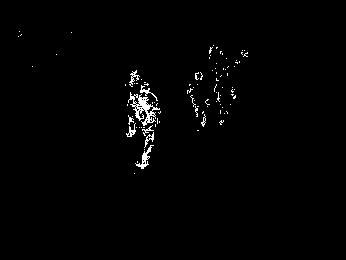person: (126, 80, 161, 172), (187, 70, 211, 130), (215, 68, 237, 127)
